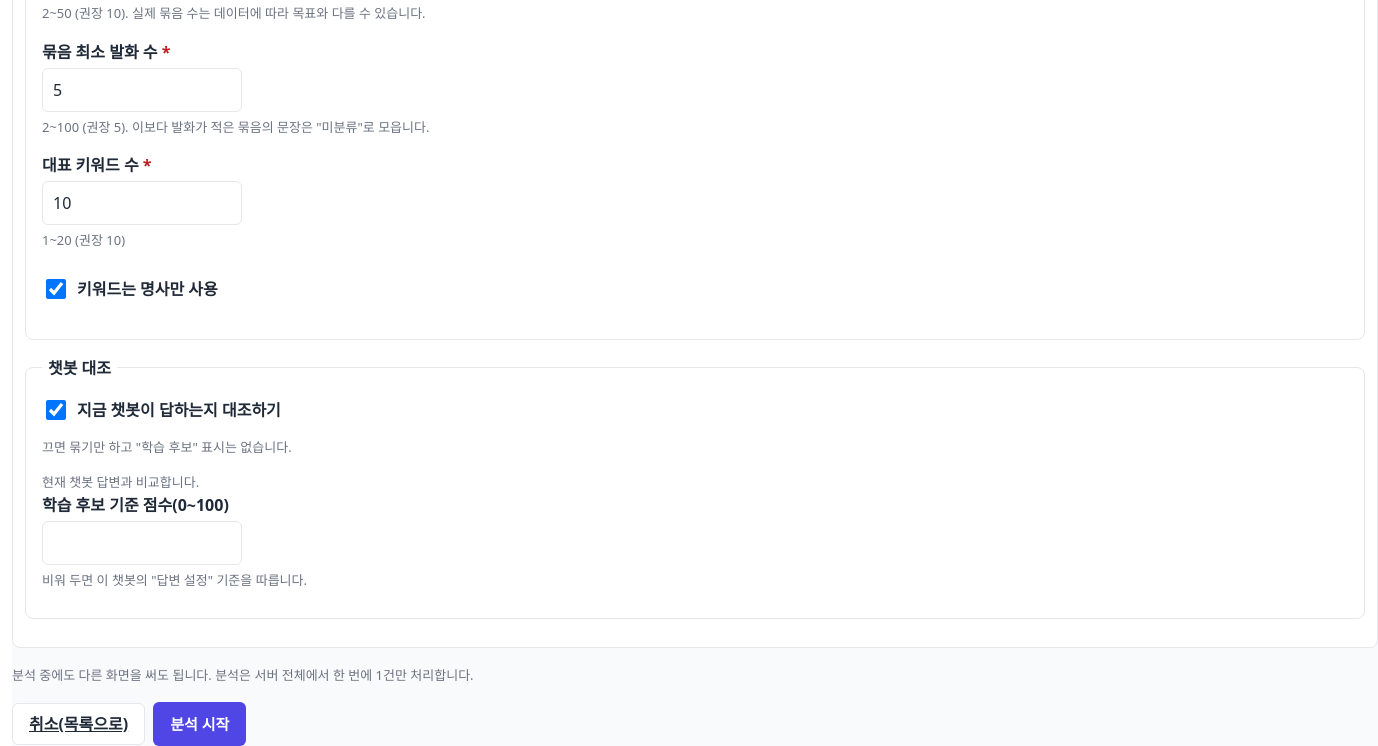
Test: NewAnalysisPage — 제출 검증·요청(§4.4~4.5) › 파일 없이 제출하면 파일 필드 오류를 보이고 요청하지 않는다
(page scrolled)
Step 1. Click the button "분석 시작" → (200, 724), box [153,702,246,745]
(page scrolled)
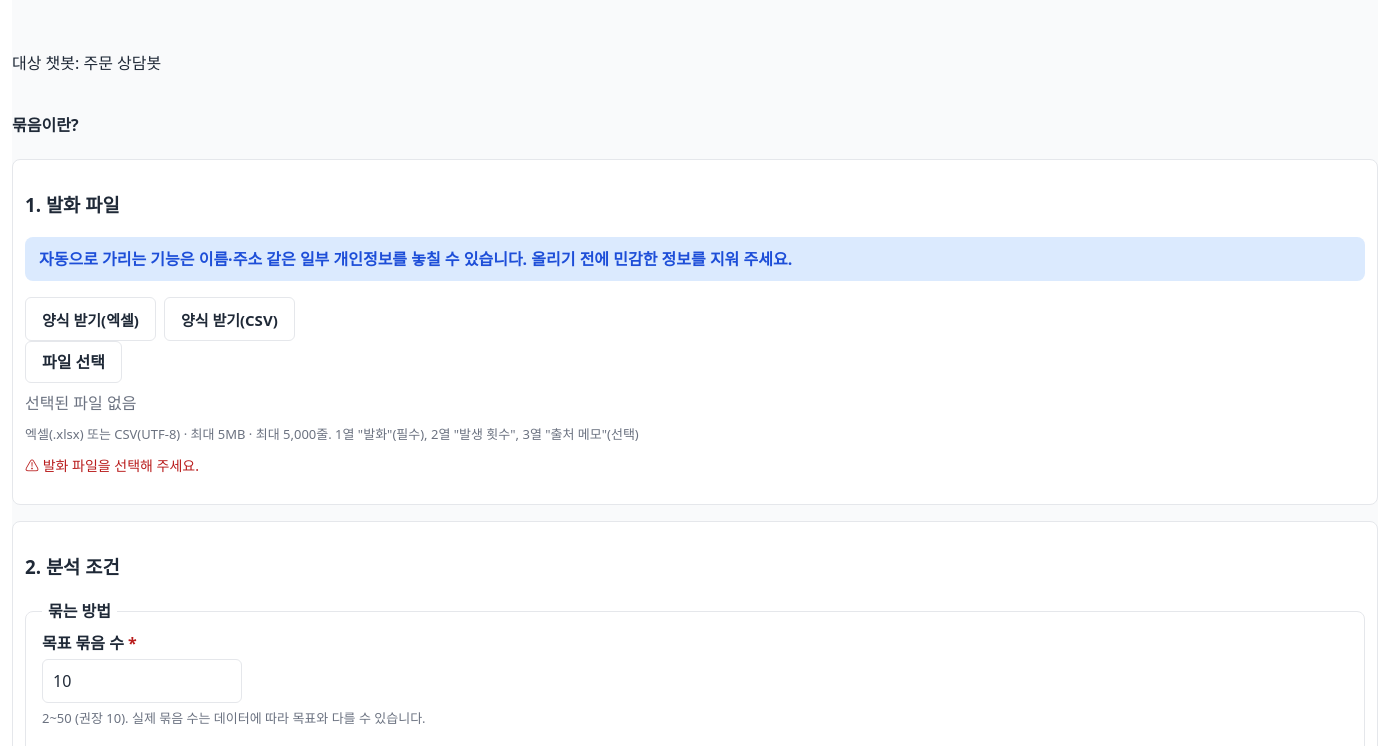
Expected: the text "발화 파일을 선택해 주세요." is shown, [43,456,199,475]
